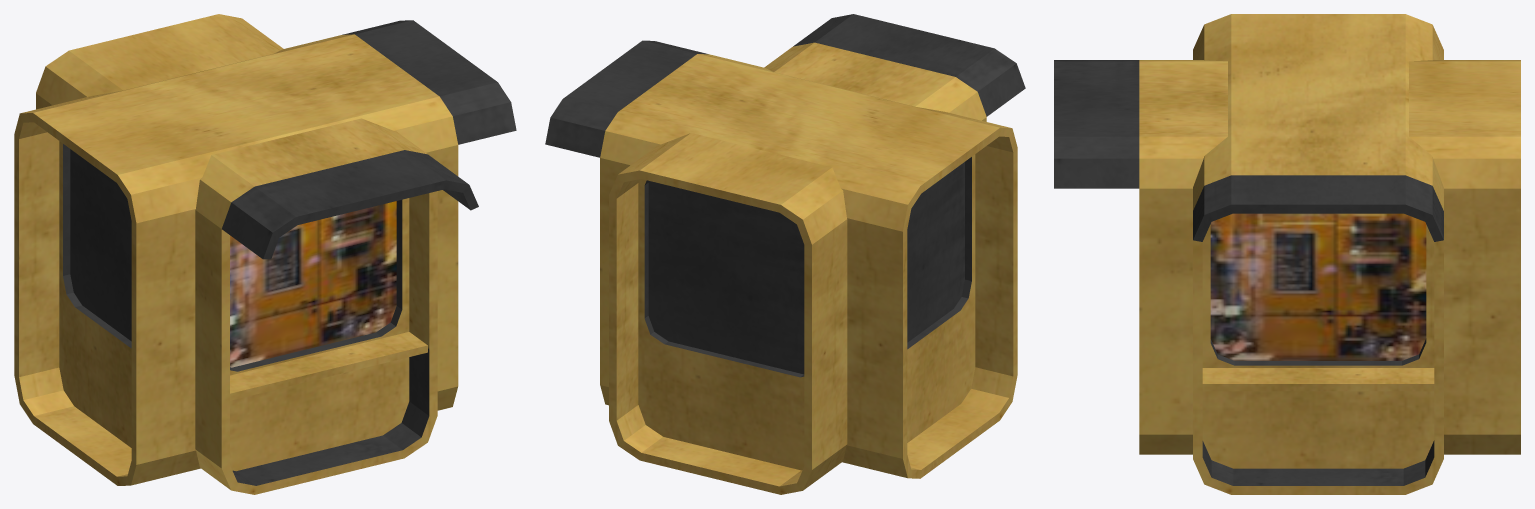
File: kioskK67Yellow.fbx
3 renders of one model, left to right at view 1: azimuth 30°, elevation 25°; view 2: azimuth 150°, elevation 25°; view 3: azimuth 270°, elevation 25°, orthographic. The views are drawn at different scales.
Parts seen in each view (by area): view 1: kioskK67Yellow; view 2: kioskK67Yellow; view 3: kioskK67Yellow.
Part boxes in pixels (x1,y1,x2,y2): kioskK67Yellow: (14, 14, 516, 494); kioskK67Yellow: (545, 14, 1025, 494); kioskK67Yellow: (1054, 14, 1520, 494).
Size of the model in its own units: 352 by 275 by 365.
